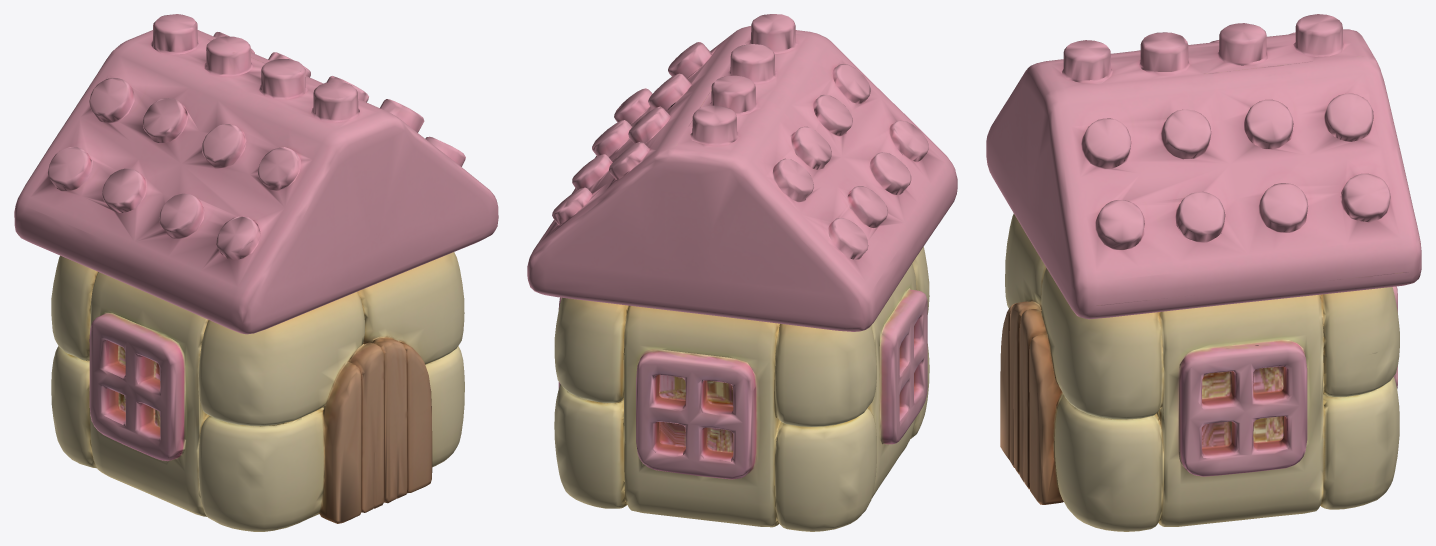
3 renders of one model, left to right at view 1: azimuth 30°, elevation 25°; view 2: azimuth 150°, elevation 25°; view 3: azimuth 270°, elevation 25°, orthographic. The views are drawn at different scales.
Visible parts, largest first — view 1: repaired; view 2: repaired; view 3: repaired.
Part boxes in pixels (bbox=[...]): repaired: bbox=[14, 14, 498, 531]; repaired: bbox=[527, 14, 957, 531]; repaired: bbox=[986, 14, 1421, 531].
Size of the model in its own units: 0.9623 by 0.9917 by 0.924.
1 material, 1 textured.
